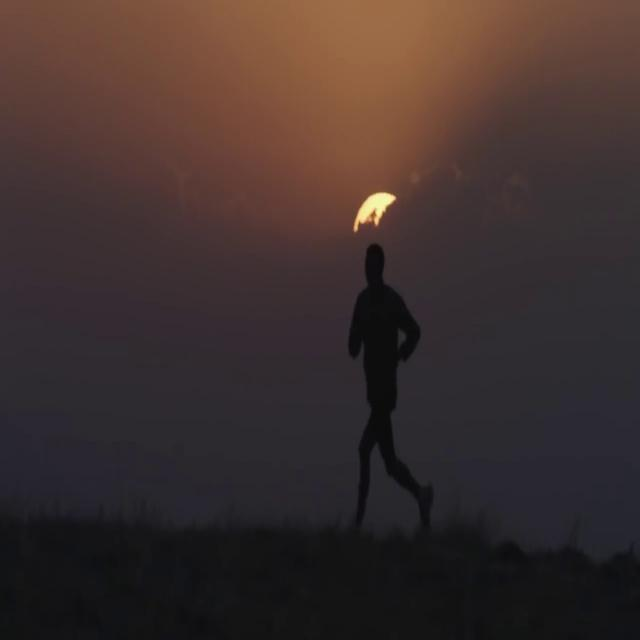running: (343, 240, 437, 546)
